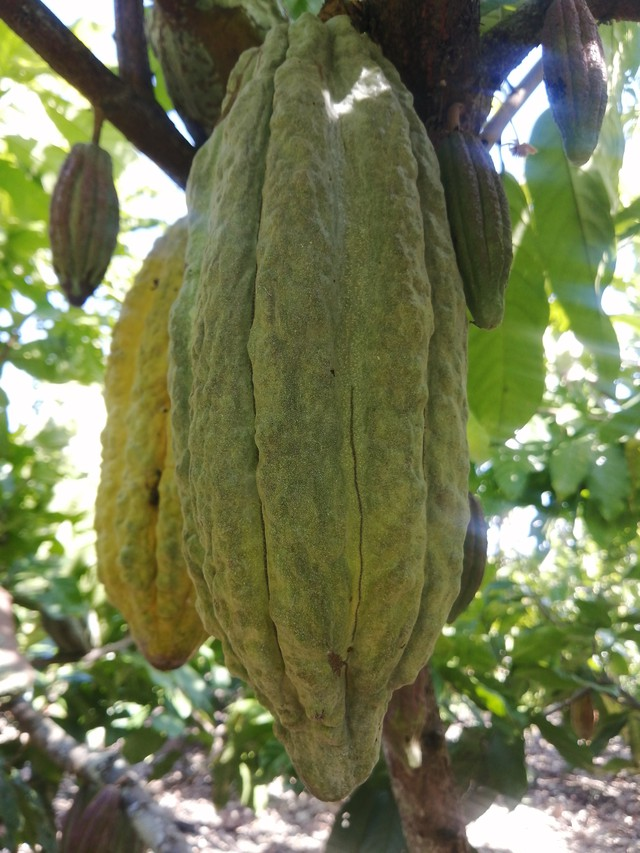Health: (152, 9, 504, 811), (423, 115, 529, 338)
